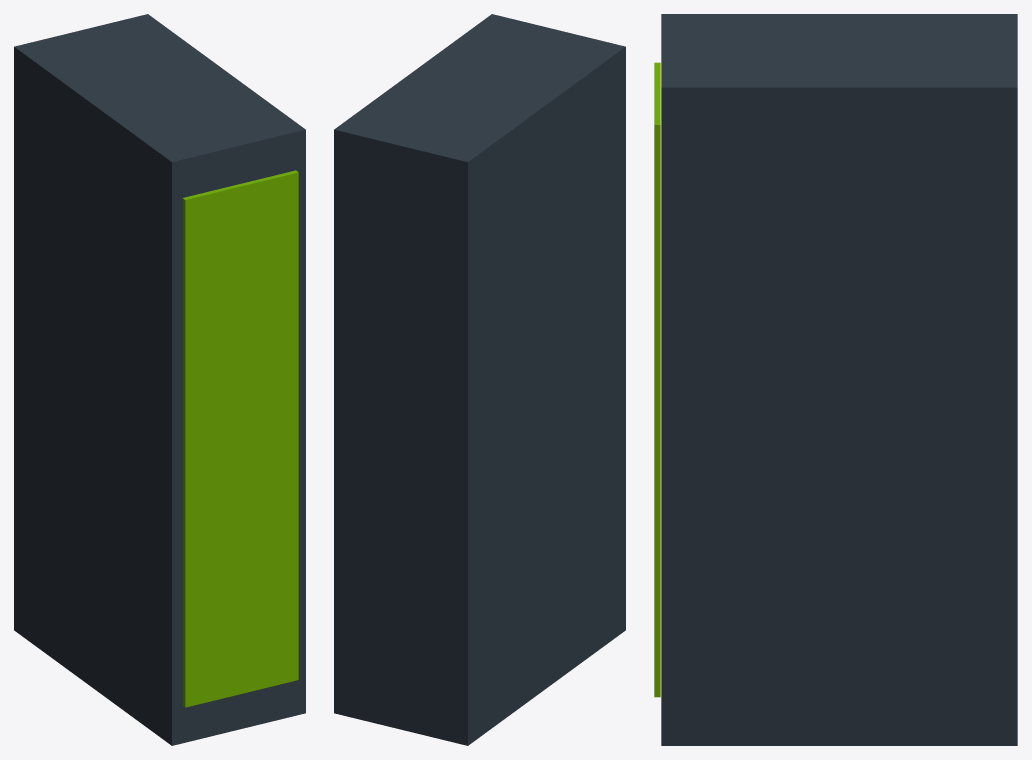
3 views of the same model, side by side, from view 1: azimuth 30°, elevation 25°; view 2: azimuth 150°, elevation 25°; view 3: azimuth 270°, elevation 25° (orthographic). The views are drawn at different scales.
Parts seen in each view (by area): view 1: Body, Front; view 2: Body; view 3: Body, Front.
Part boxes in pixels (box(x1,y1,x2,y2)): Body: box(14, 14, 305, 745); Front: box(182, 170, 298, 707); Body: box(334, 14, 625, 745); Body: box(661, 14, 1017, 745); Front: box(654, 62, 660, 697).
Bounding box in the file's own units: 0.552 × 2.3 × 1.15.
